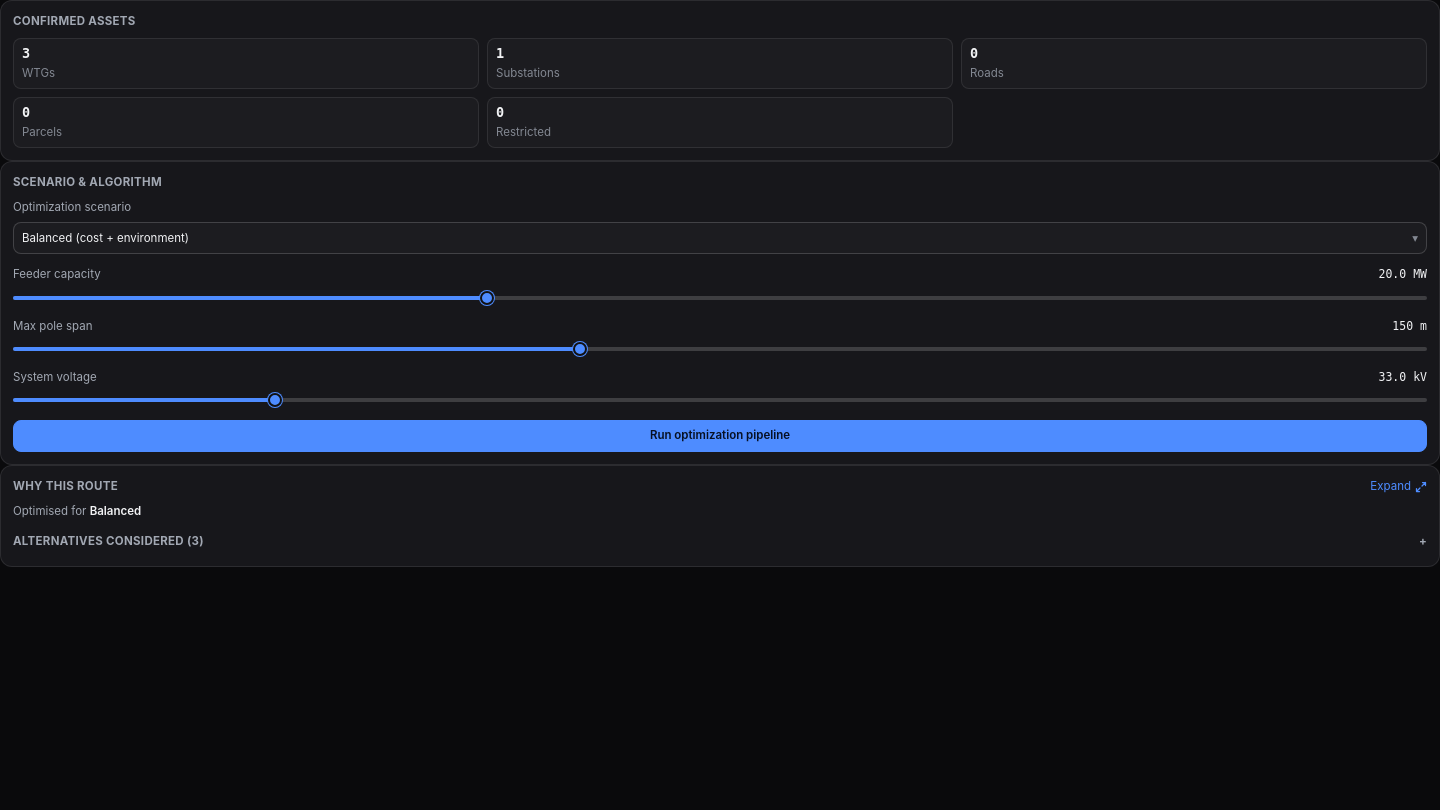
Scenario: candidate comparison on a successful run › lists every candidate in rank order with its comparable figures
Click the button "Alternatives considered (3) +" at (102, 540), box x1=13 y1=532 x2=1427 y2=550
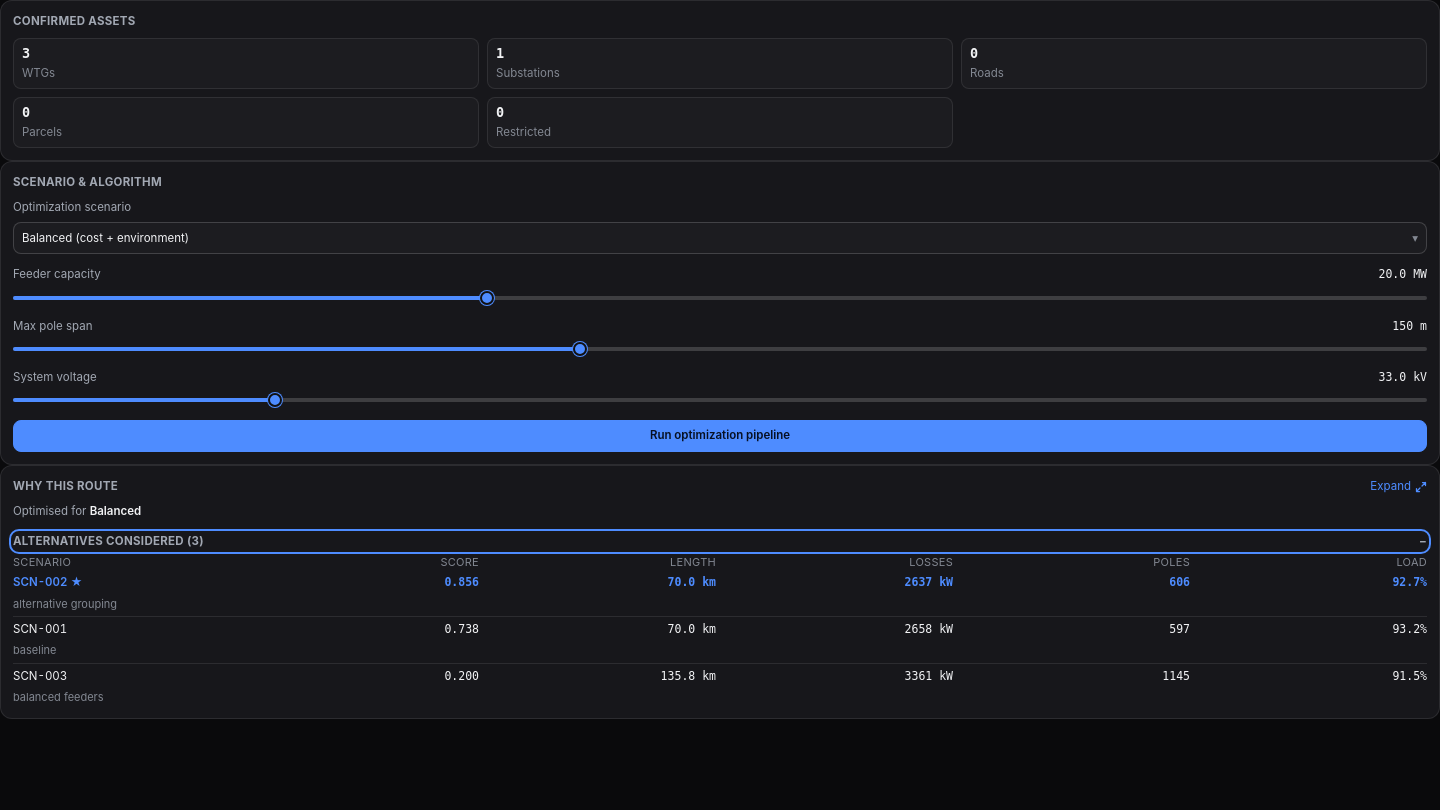
Check: the text "135.8 km" is shown, box x1=661 y1=669 x2=716 y2=683
Check: the text "70.0 km" is shown 2 times, box x1=668 y1=575 x2=716 y2=589; x1=668 y1=622 x2=716 y2=636
Check: the text "0.856" is shown, box x1=444 y1=575 x2=479 y2=589
